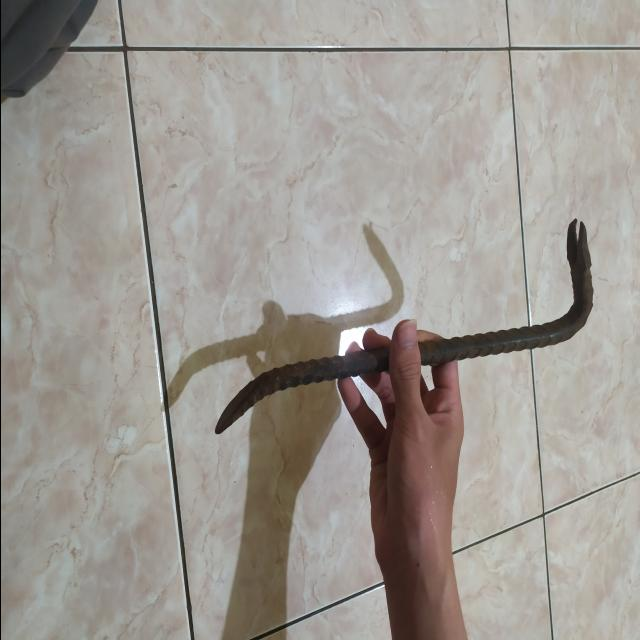Linggis: (214, 221, 592, 441)
